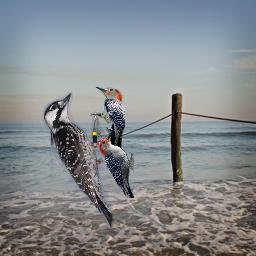Woodpecker: (43, 92, 114, 228), (97, 131, 134, 198), (90, 87, 125, 156)
